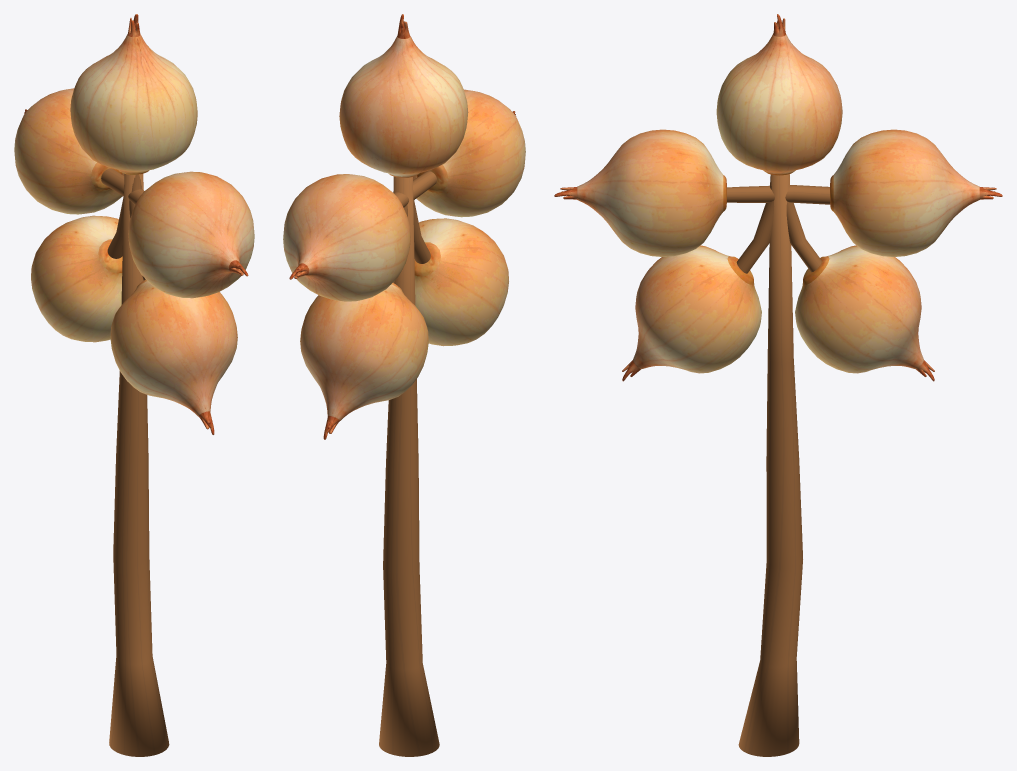
File: Wand.fbx
The picture shows the model from 3 angles, left to right: view 1: azimuth 30°, elevation 25°; view 2: azimuth 150°, elevation 25°; view 3: azimuth 270°, elevation 25°; orthographic projection.
Parts seen in each view (by area): view 1: Cube; view 2: Cube; view 3: Cube.
Boxes of the visible parts, bbox=[...] form: Cube: bbox=[14, 14, 254, 756]; Cube: bbox=[283, 14, 525, 756]; Cube: bbox=[554, 14, 1002, 756].
Bounding box in the file's own units: 76.6 × 489 × 272.
